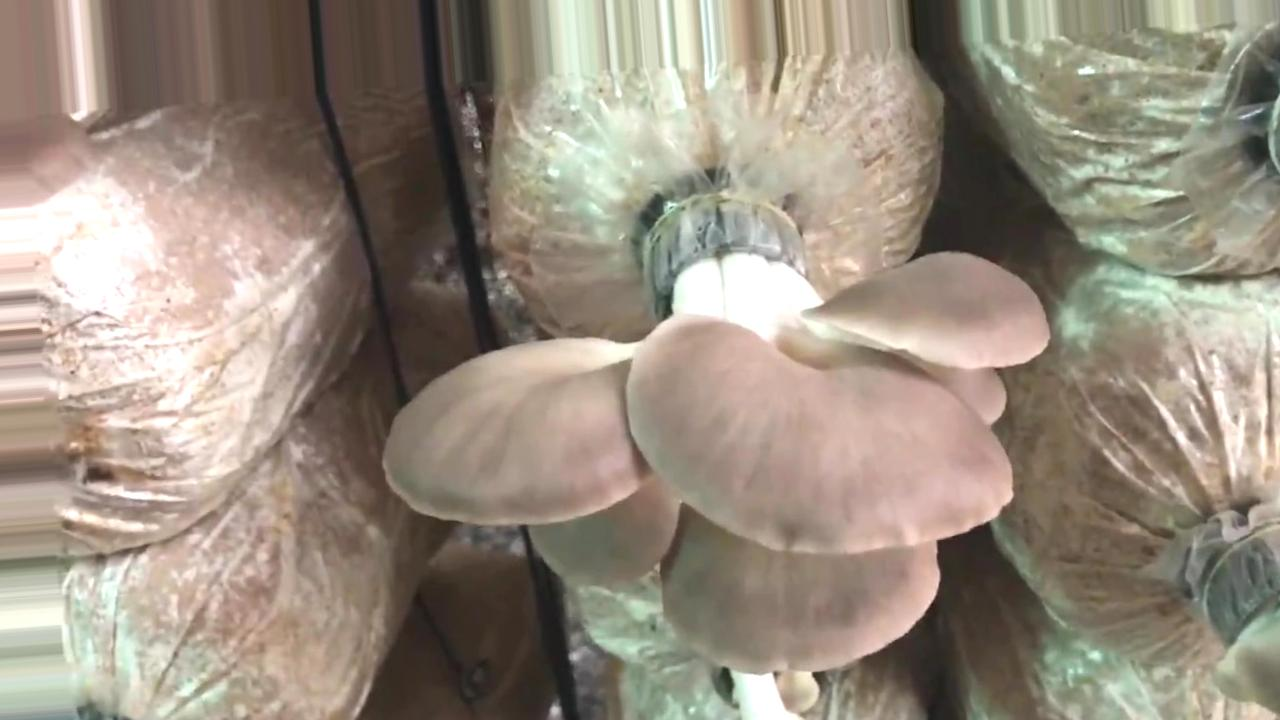nam: (382, 200, 1048, 675)
